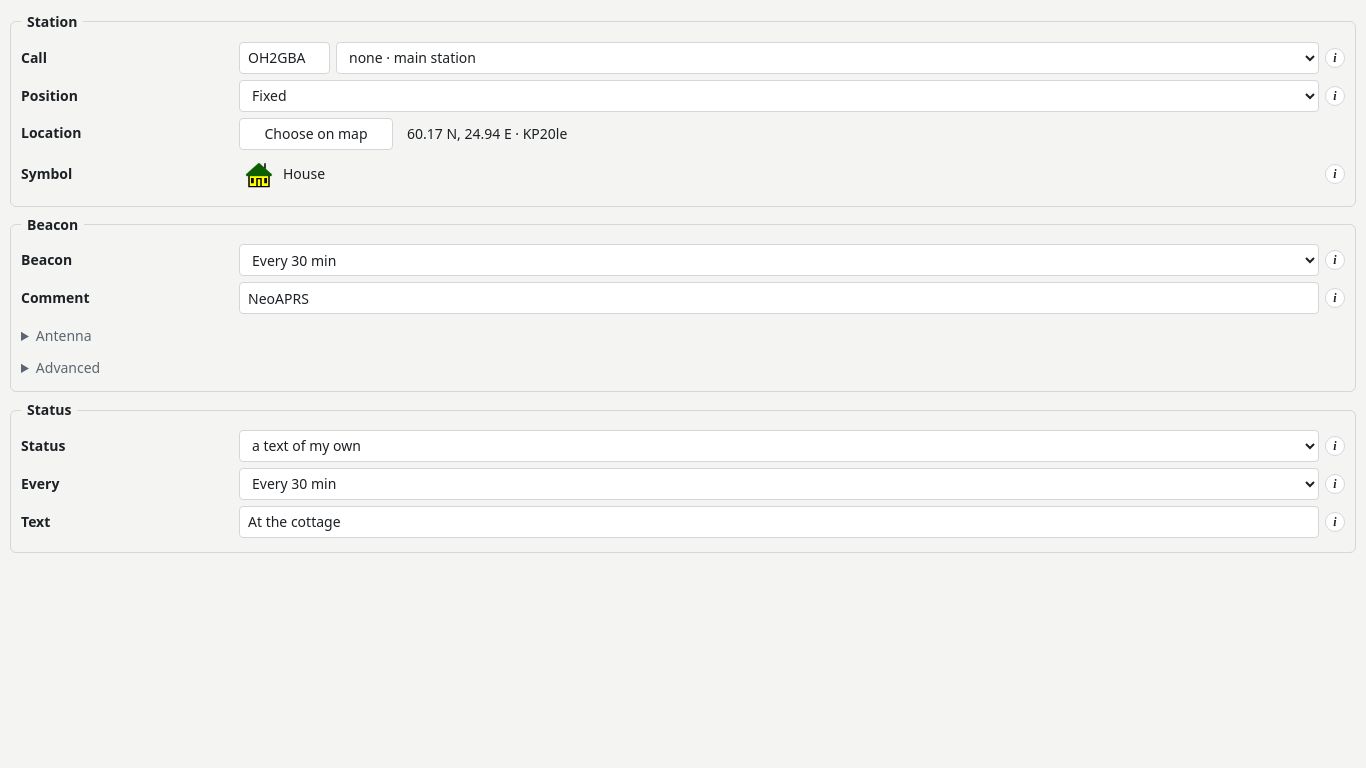
the Status group › keeps what was typed for the other choice while the choice is changed back and forth
Select "off" in the dropdown with id "set-status-source" at (779, 446), box [239,430,1319,462]
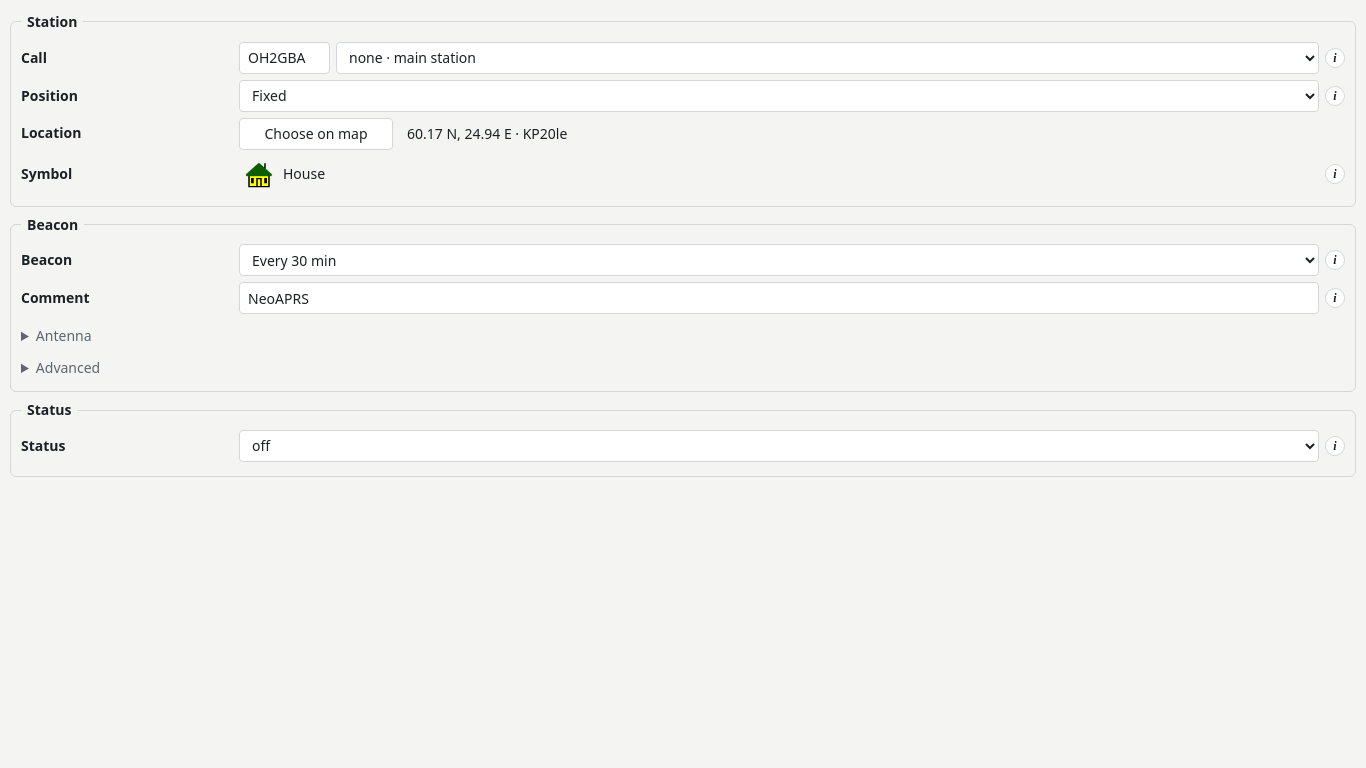
Select "a text of my own" in the dropdown with id "set-status-source" at (779, 446), box [239,430,1319,462]
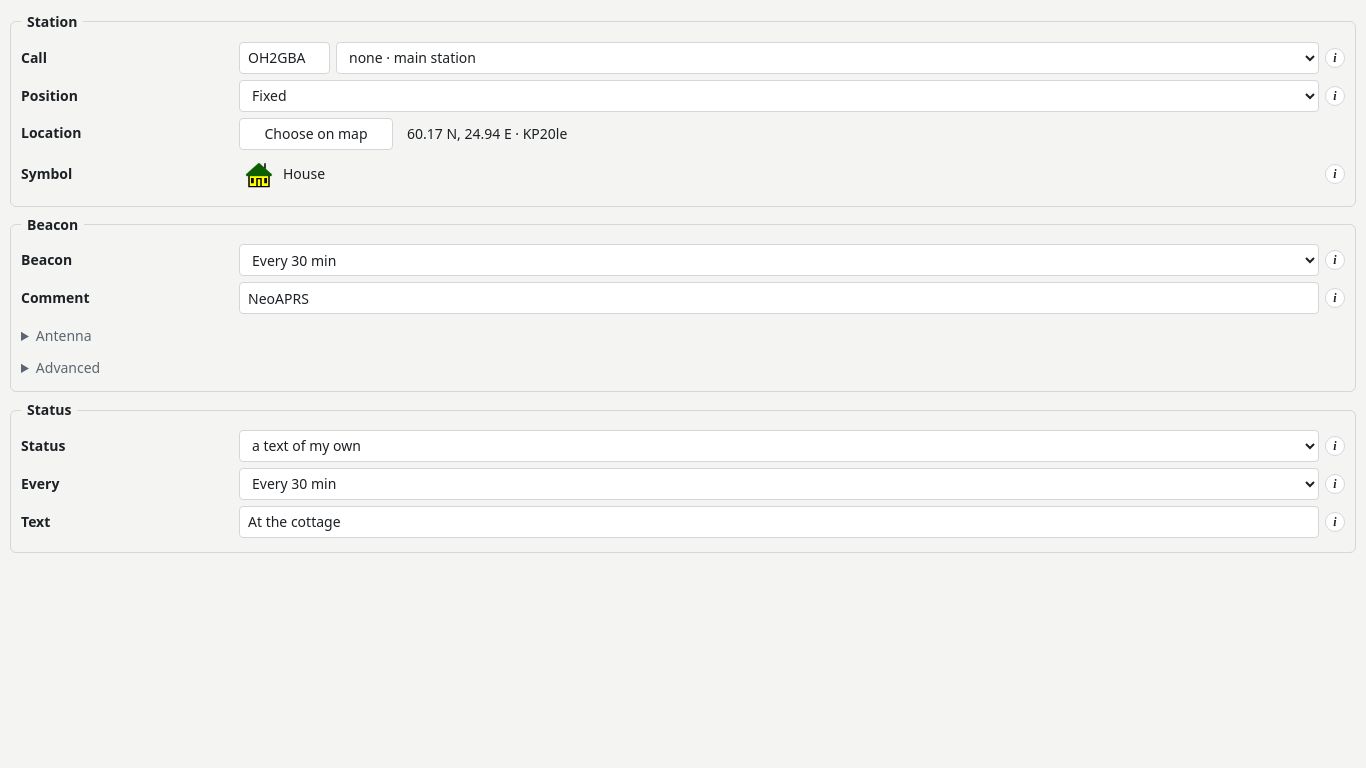
Check: the field with id "set-station-status" holds "At the cottage", box [239,506,1319,538]
